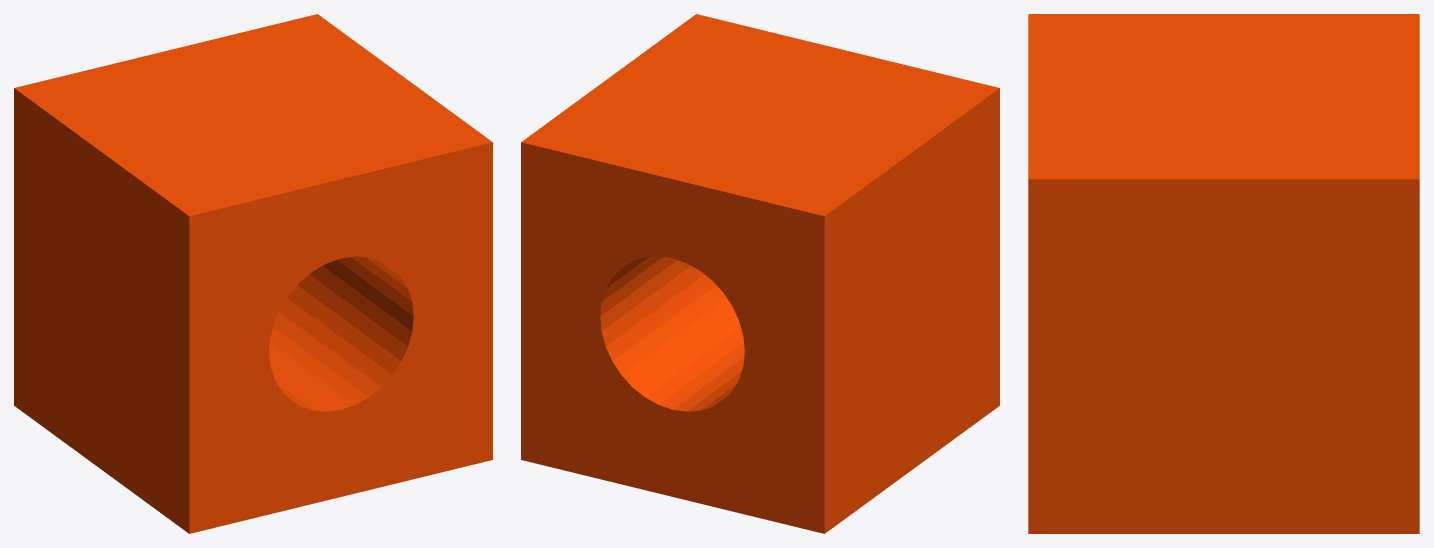
The picture shows the model from 3 angles, left to right: view 1: azimuth 30°, elevation 25°; view 2: azimuth 150°, elevation 25°; view 3: azimuth 270°, elevation 25°; orthographic projection. The views are drawn at different scales.
Parts seen in each view (by area): view 1: Cube; view 2: Cube; view 3: Cube.
Part boxes in pixels (<box>): Cube: <box>14,14,492,533</box>; Cube: <box>521,14,999,533</box>; Cube: <box>1028,14,1419,533</box>.
Bounding box in the file's own units: 2 × 2 × 2.
